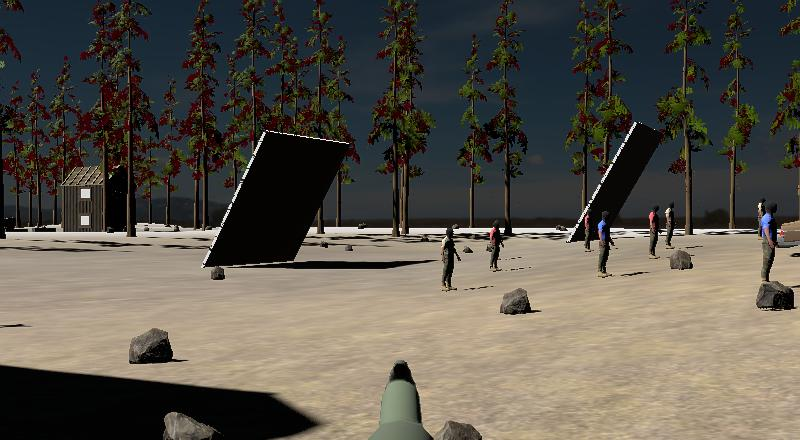House: (61, 164, 137, 232)
Human: (440, 225, 461, 292), (760, 202, 777, 284), (763, 203, 780, 284), (596, 210, 612, 277), (488, 220, 504, 272), (647, 204, 661, 258), (664, 201, 678, 247)
